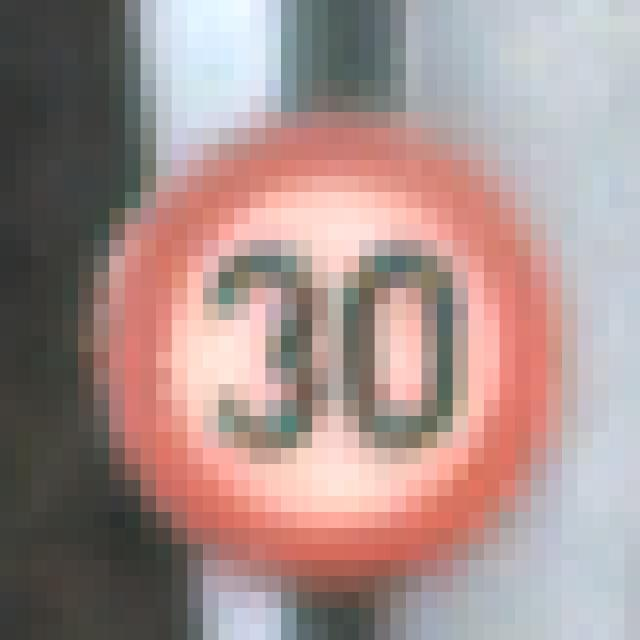Speed Limit -30-: (70, 88, 539, 536)
